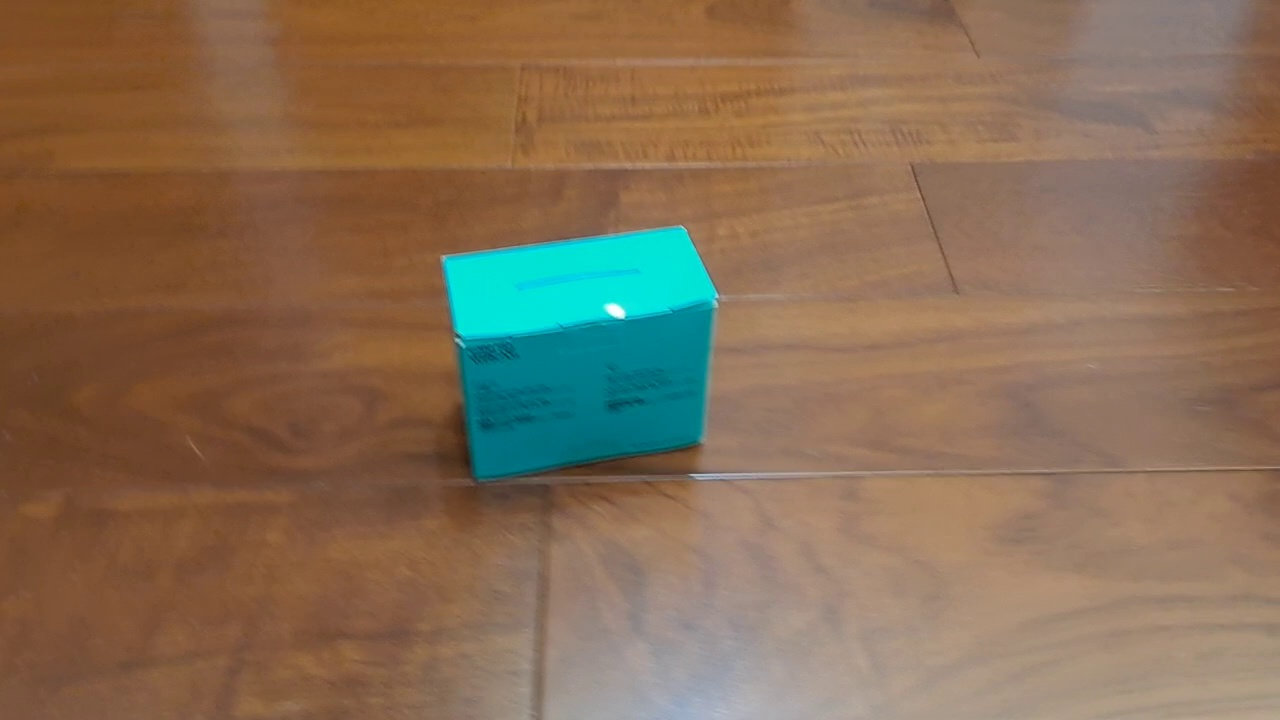webcam: (438, 223, 720, 486)
